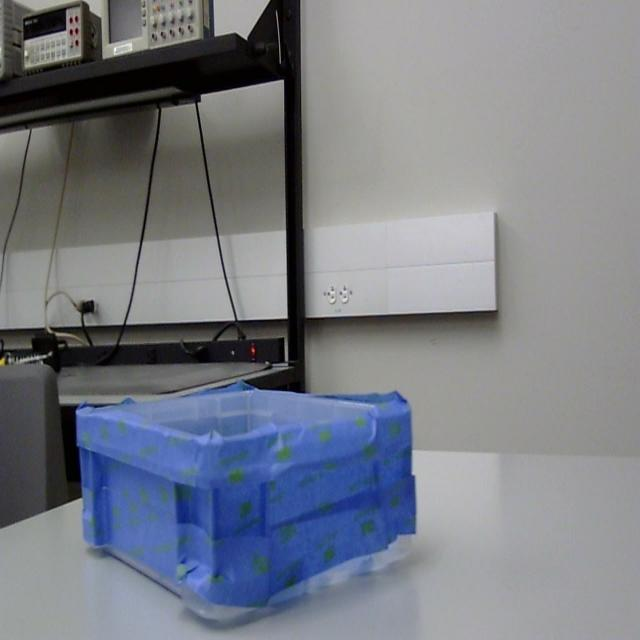bucket: (72, 389, 418, 630)
